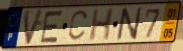7: (144, 7, 162, 40)
C: (67, 9, 90, 43)
E: (38, 9, 65, 45)
H: (87, 7, 116, 43)
N: (115, 6, 144, 44)
V: (22, 8, 46, 47)
